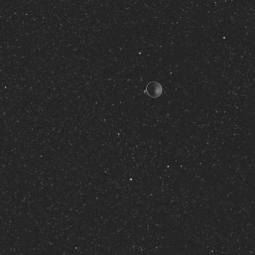debris: (138, 75, 169, 102)
